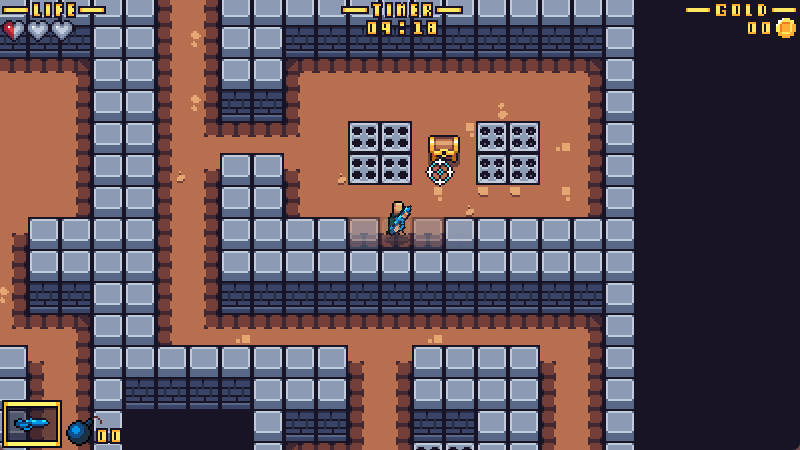aim: (426, 159, 453, 186)
bomb_counter_0: (68, 415, 120, 450)
gold_counter: (685, 1, 797, 38)
health-5: (1, 19, 76, 42)
player: (386, 200, 412, 237)
timer: (342, 1, 464, 35)
trap_off: (476, 121, 541, 185), (348, 121, 412, 185)
treasury_close: (429, 135, 461, 166)
